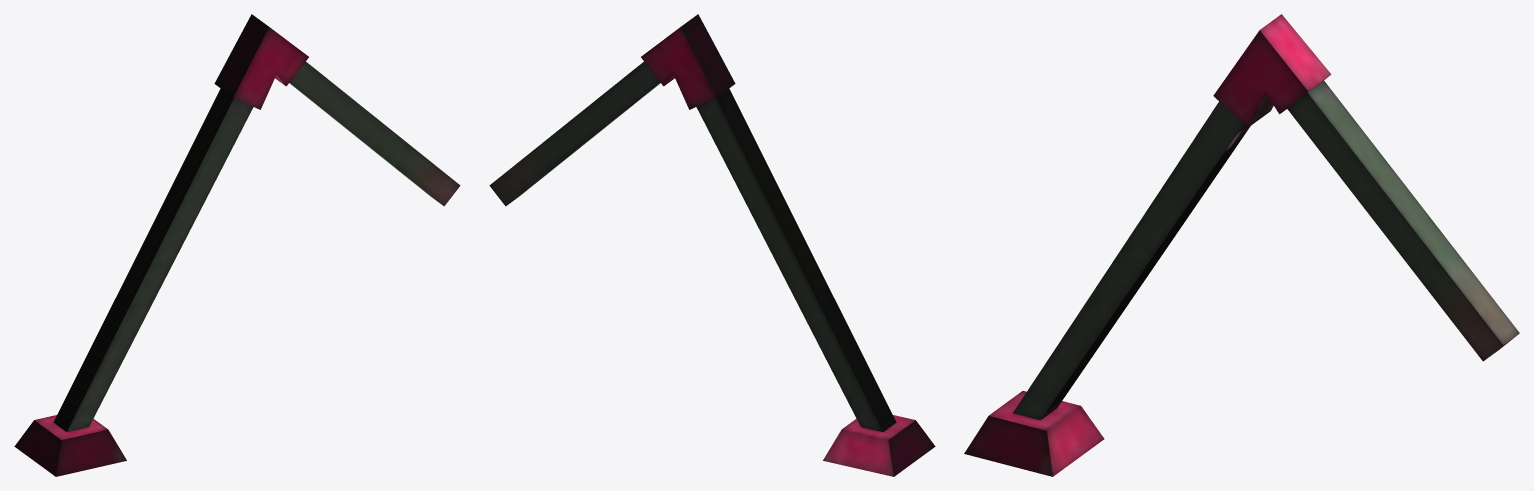
Rendered from bugmidright.obj.
3 views of the same model, side by side, from view 1: azimuth 30°, elevation 25°; view 2: azimuth 150°, elevation 25°; view 3: azimuth 330°, elevation 25° (orthographic). The views are drawn at different scales.
Parts seen in each view (by area): view 1: Object006; view 2: Object006; view 3: Object006.
Boxes of the visible parts, <box> form: Object006: <box>14,14,460,476</box>; Object006: <box>489,14,935,476</box>; Object006: <box>964,14,1519,476</box>.
Size of the model in its own units: 27.27 by 24.11 by 4.69.
Materials: 1 (1 with a texture image).
